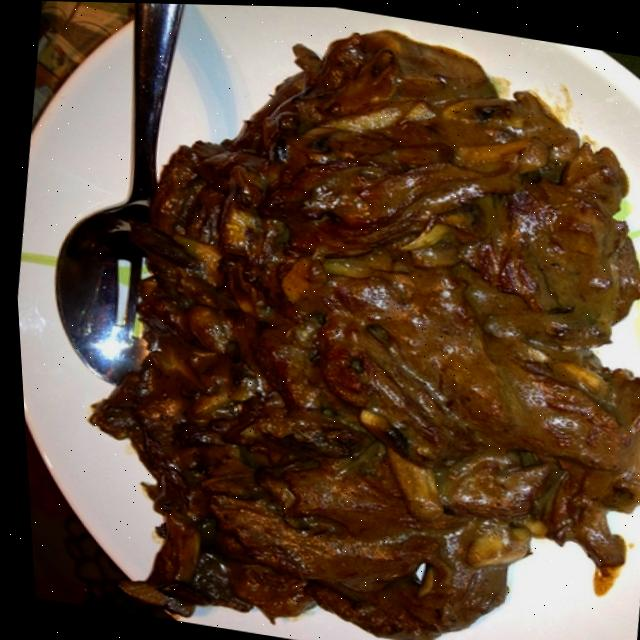牛肉菜式: (14, 3, 640, 640)
